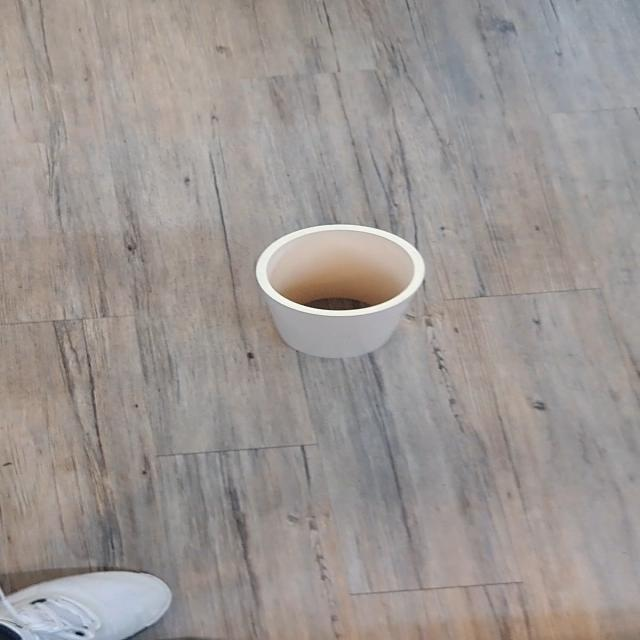CORAL: (199, 200, 480, 382)
